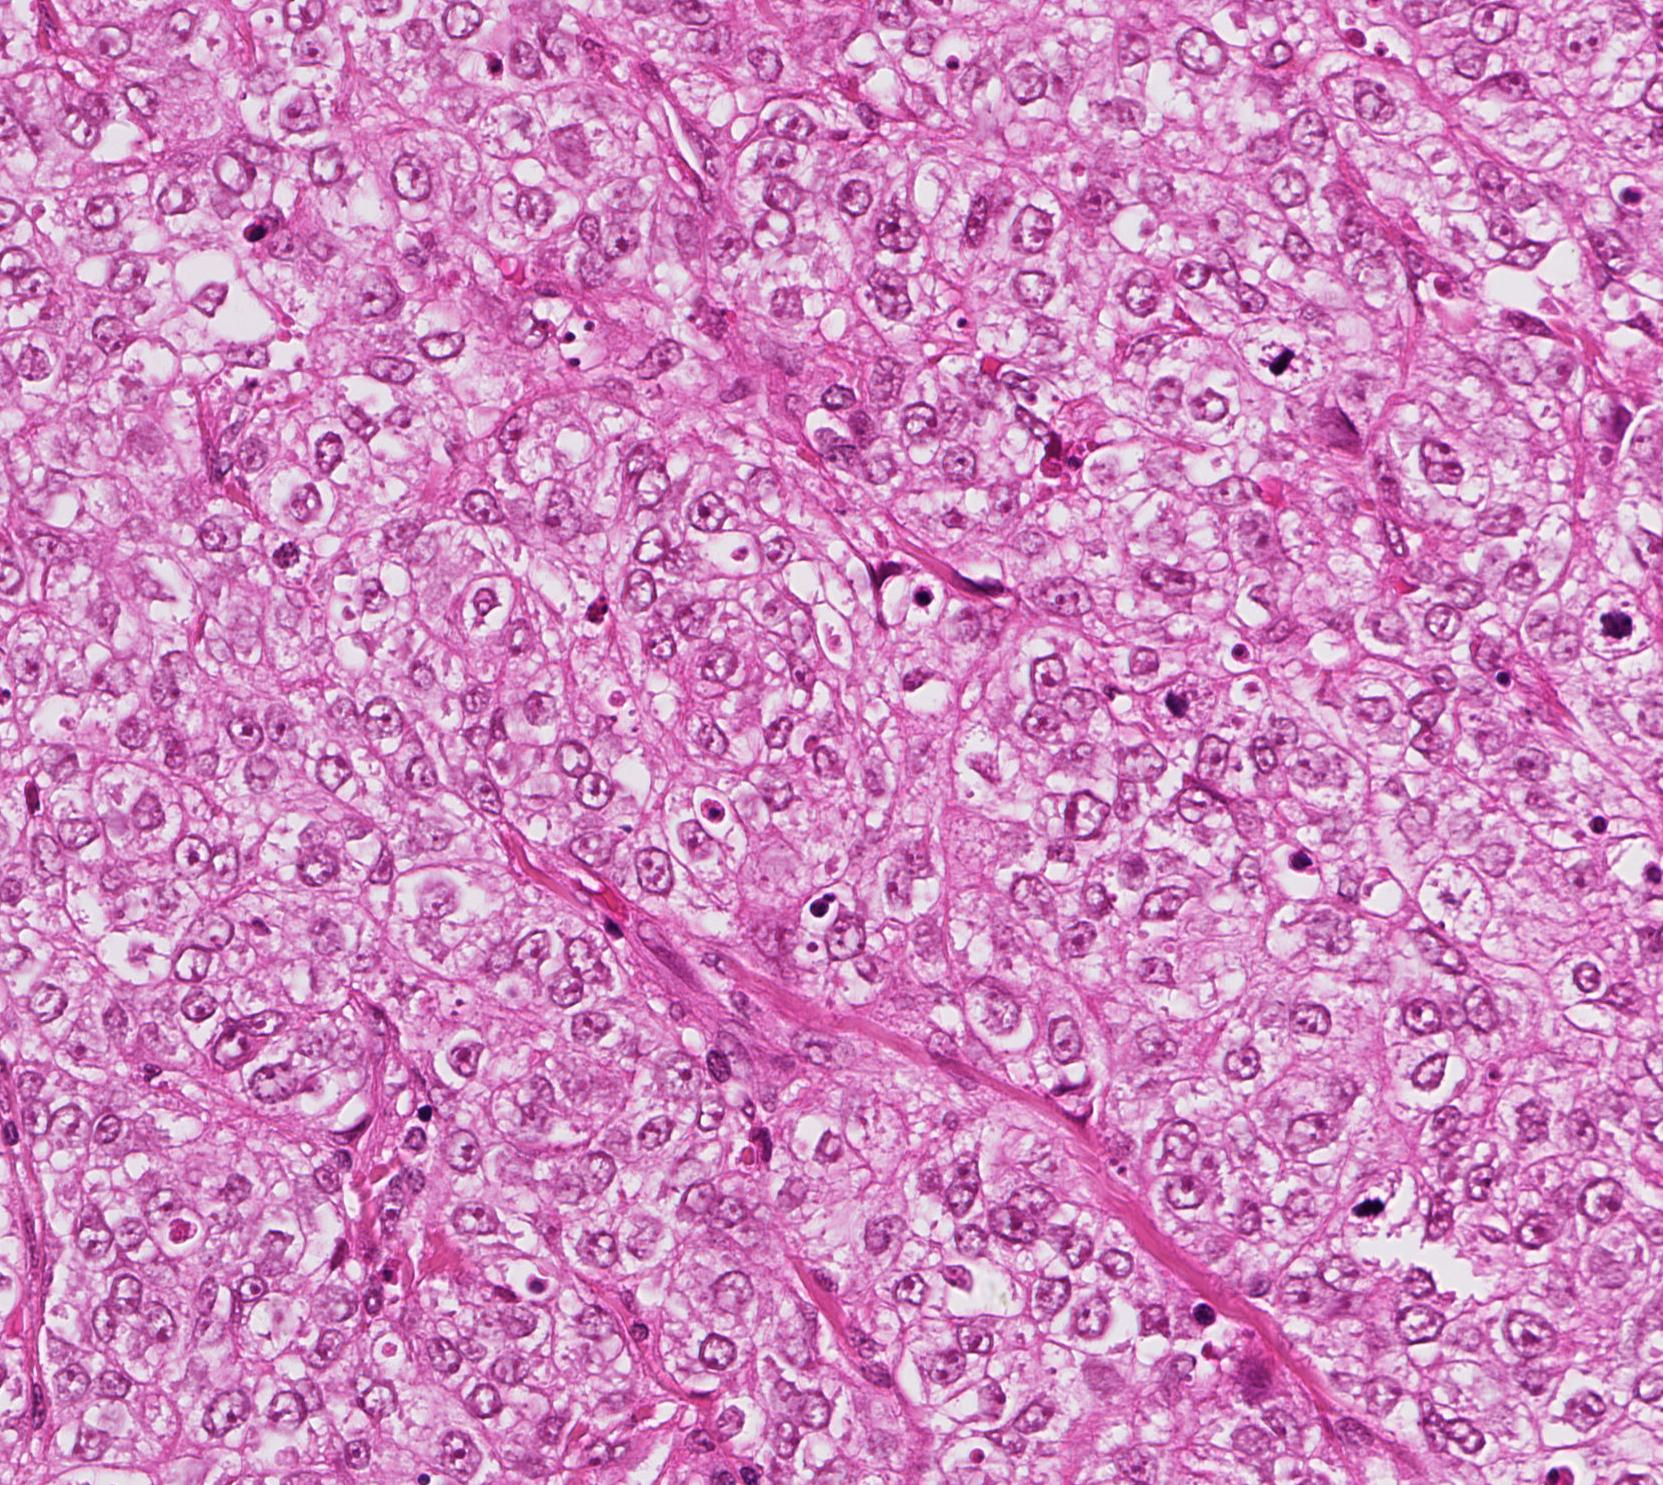mitosis: (1576, 593, 1636, 654), (1338, 1165, 1396, 1226)
